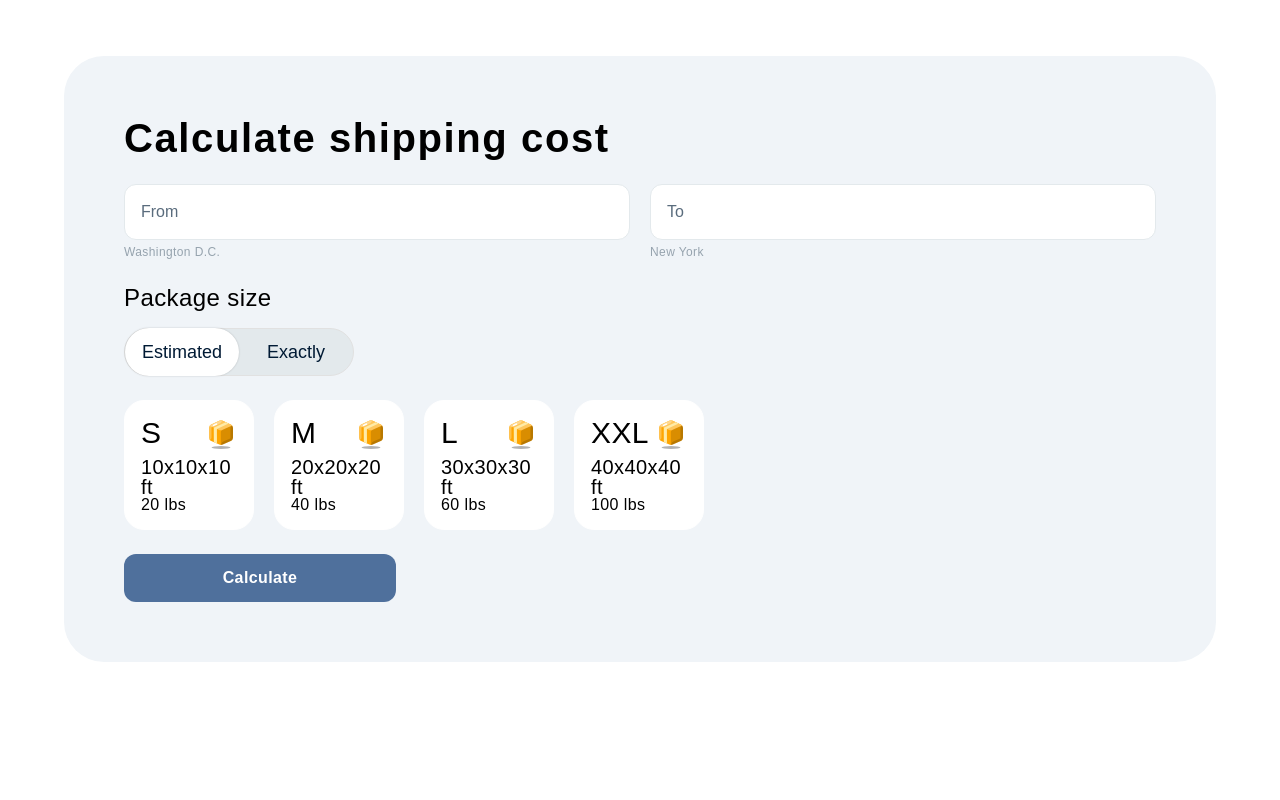
it: Calculator › should clear input value when clear icon is clicked
Type "fa" into the field with test id "autocomplete-input-to" at (903, 212), box [651,185,1155,239]
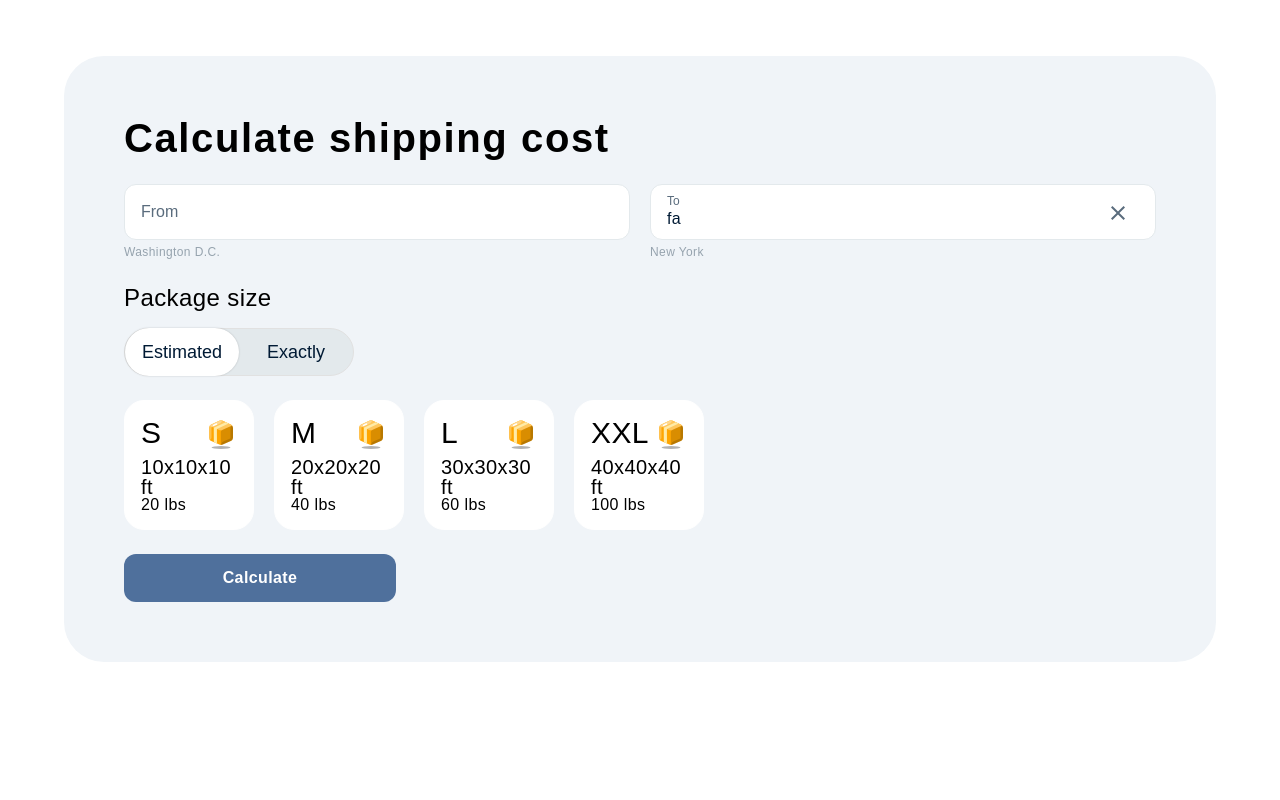
Click the icon with test id "clear-icon-to" at (1118, 215), box [1106,201,1130,229]
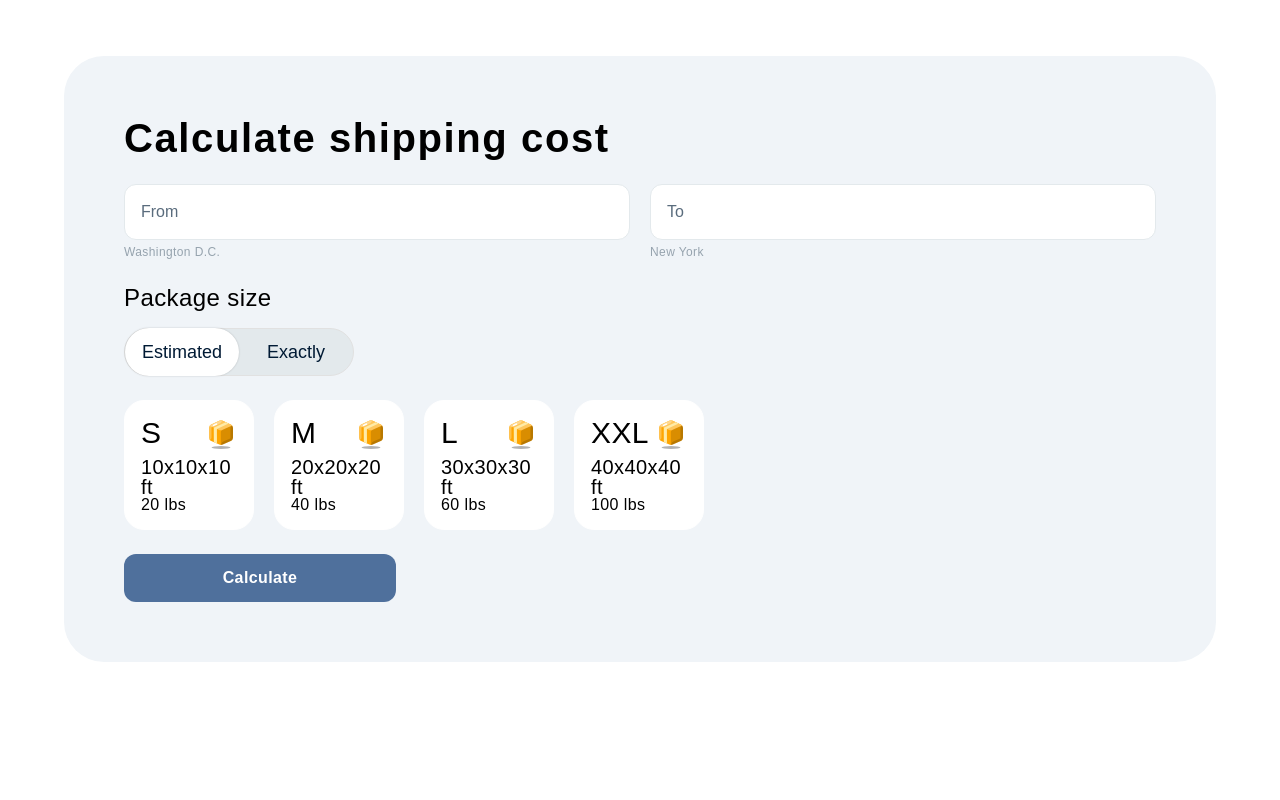
Expected: the field with test id "autocomplete-input-to" is empty, [651,185,1155,239]
